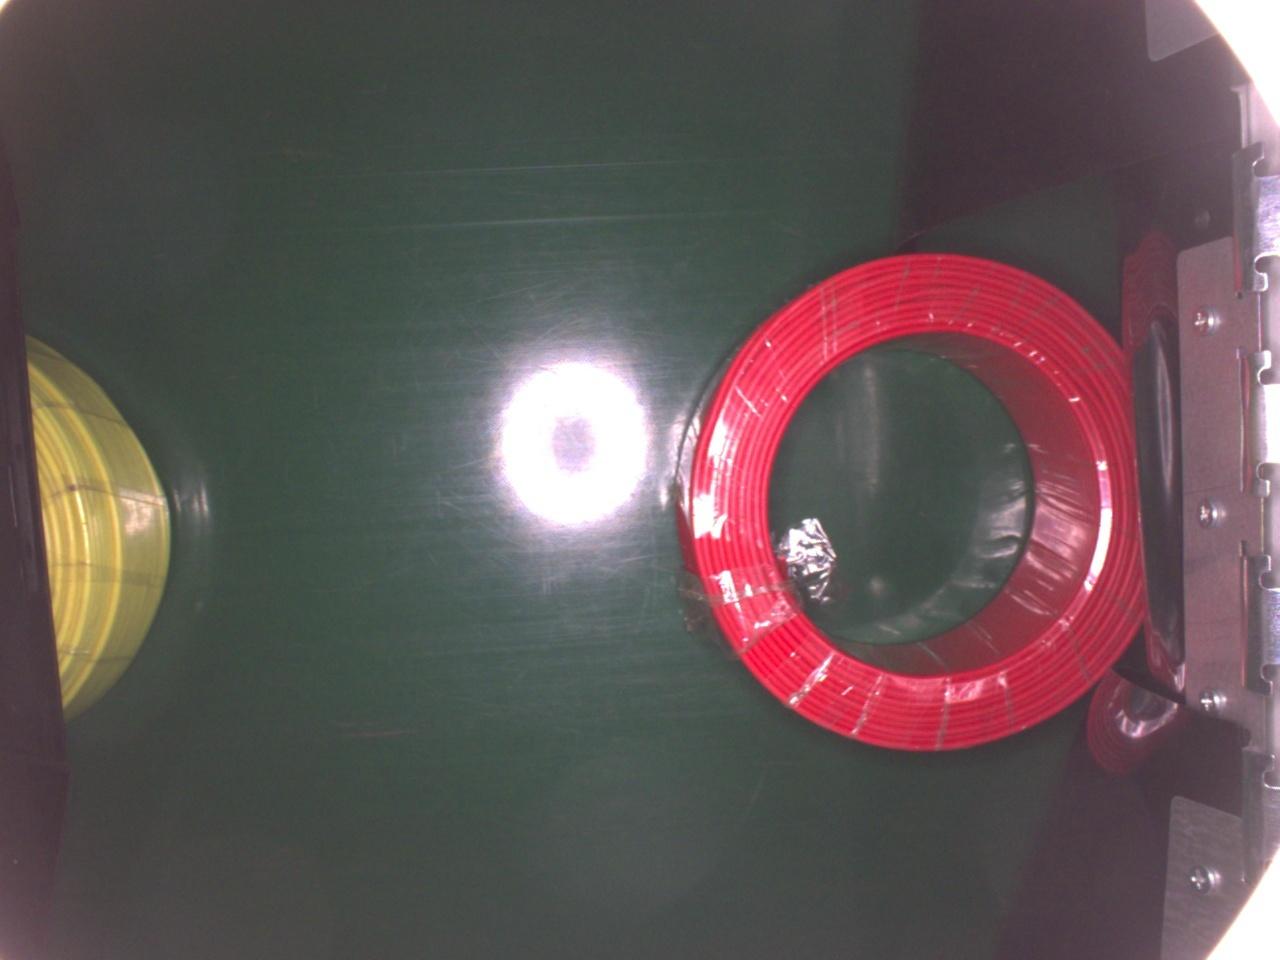red: (673, 252, 1144, 755)
yellow: (26, 333, 176, 718)
